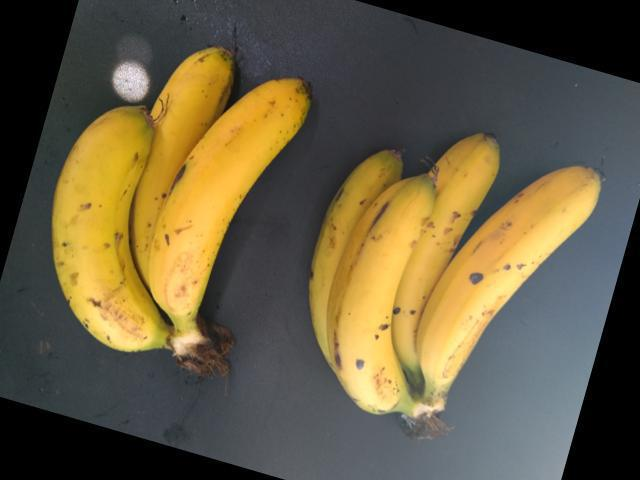ripe: (427, 158, 618, 400), (139, 78, 308, 330), (38, 93, 164, 377), (305, 181, 436, 411)
